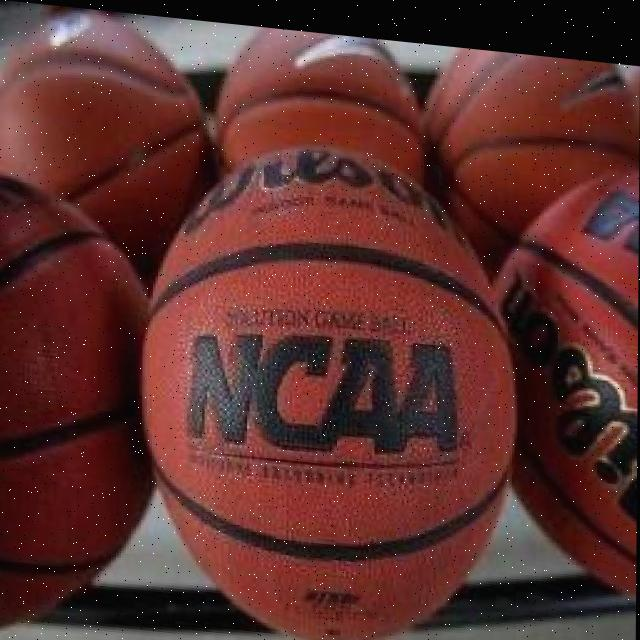Basketball: (140, 130, 516, 640), (0, 171, 148, 640), (494, 150, 639, 594), (1, 8, 204, 243), (426, 44, 640, 259), (209, 22, 425, 209)
